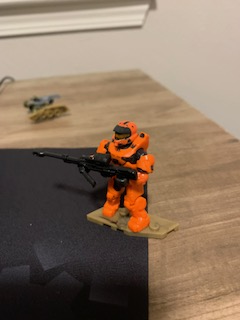spartan: (87, 120, 155, 235)
